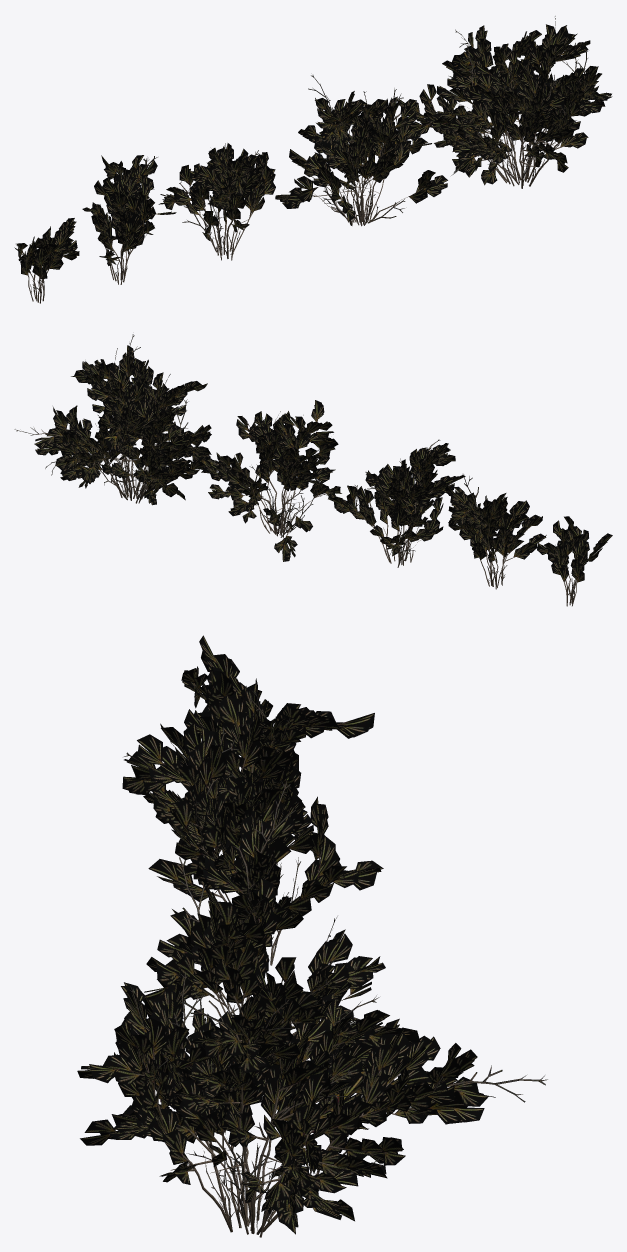
File: wild_rooibos_bush.glb
3 views of the same model, one above another, from view 1: azimuth 30°, elevation 25°; view 2: azimuth 150°, elevation 25°; view 3: azimuth 270°, elevation 25° (orthographic). The views are drawn at different scales.
Visible parts, largest first — view 1: wild_rooibos_bush_a; view 2: wild_rooibos_bush_a; view 3: wild_rooibos_bush_a.
Boxes of the visible parts, bbox=[...] form: wild_rooibos_bush_a: bbox=[14, 16, 612, 303]; wild_rooibos_bush_a: bbox=[14, 334, 612, 606]; wild_rooibos_bush_a: bbox=[77, 635, 547, 1237].
Bounding box in the file's own units: 2.28 × 0.5413 × 0.8432.
Materials: 2 (2 with a texture image).
